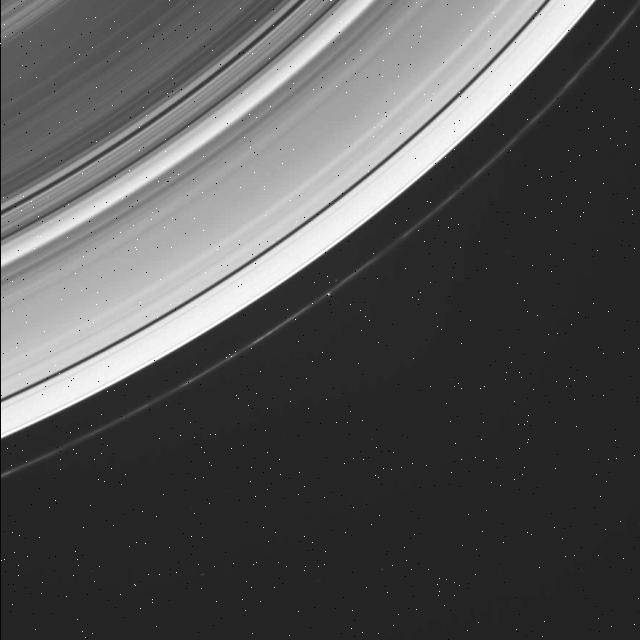Saturn: (0, 0, 640, 497)
